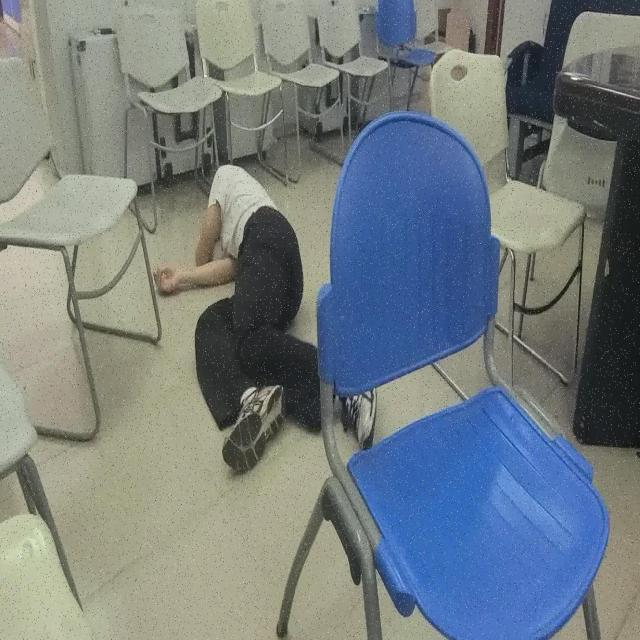fall: (150, 161, 378, 477)
